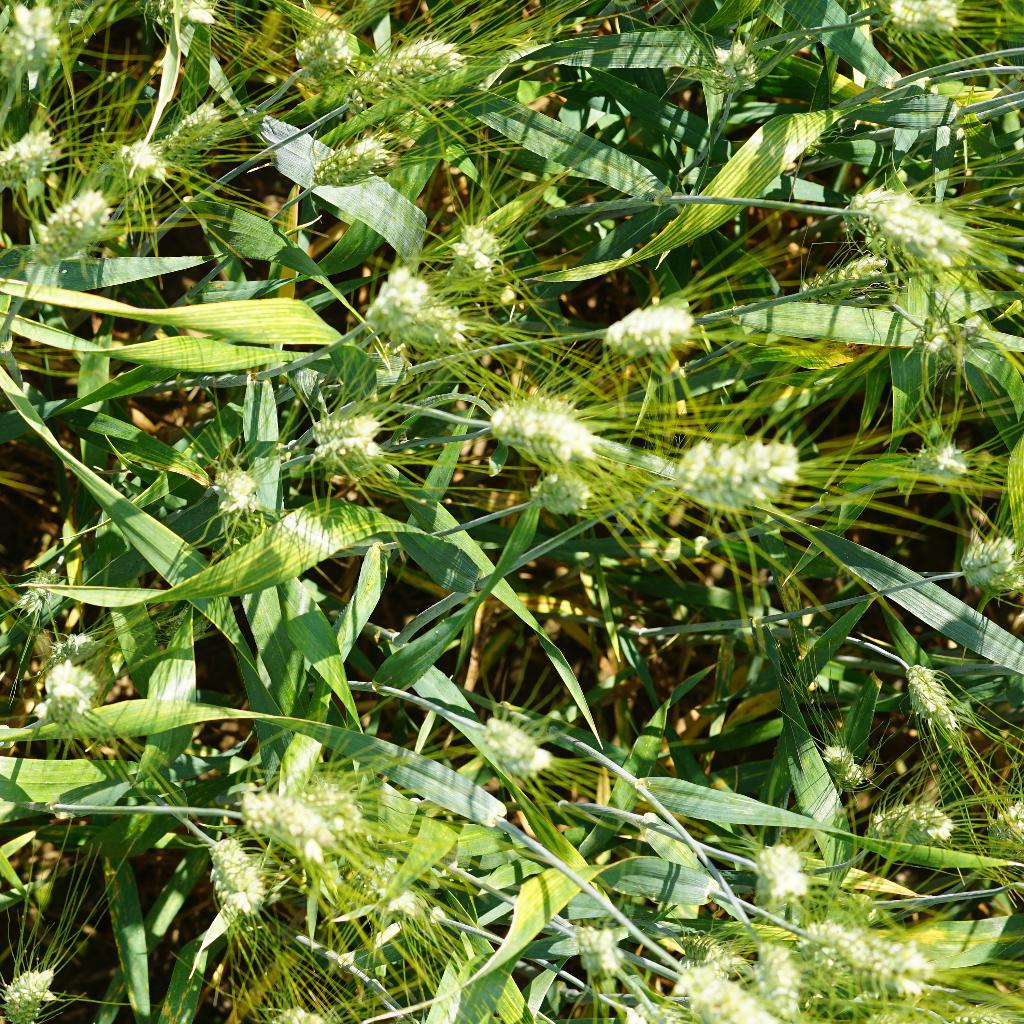0-0: (665, 426, 813, 519), (848, 174, 980, 268), (673, 952, 814, 1024), (489, 381, 606, 466), (826, 918, 934, 1002), (193, 821, 268, 933), (234, 766, 326, 856), (799, 245, 911, 317), (750, 828, 823, 929), (474, 701, 561, 785), (896, 657, 972, 751), (0, 0, 74, 96), (864, 791, 964, 862), (302, 763, 391, 841), (34, 190, 118, 271), (593, 299, 716, 354), (369, 36, 471, 100), (443, 216, 529, 291), (512, 460, 610, 522), (36, 645, 109, 728), (301, 400, 388, 468), (317, 134, 413, 194), (388, 306, 489, 362), (756, 931, 816, 1024), (354, 262, 429, 333), (296, 7, 363, 86), (953, 533, 1024, 607), (103, 127, 174, 195), (896, 430, 976, 489), (571, 908, 632, 982), (701, 34, 765, 96), (934, 296, 986, 369), (0, 967, 66, 1024), (0, 133, 60, 195), (873, 0, 967, 39), (817, 742, 879, 800), (206, 460, 261, 519), (8, 561, 53, 623), (378, 869, 423, 926)
